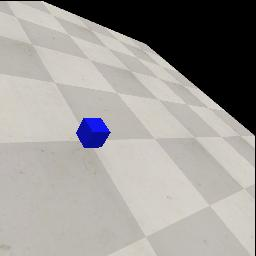box: (76, 118, 111, 148)
